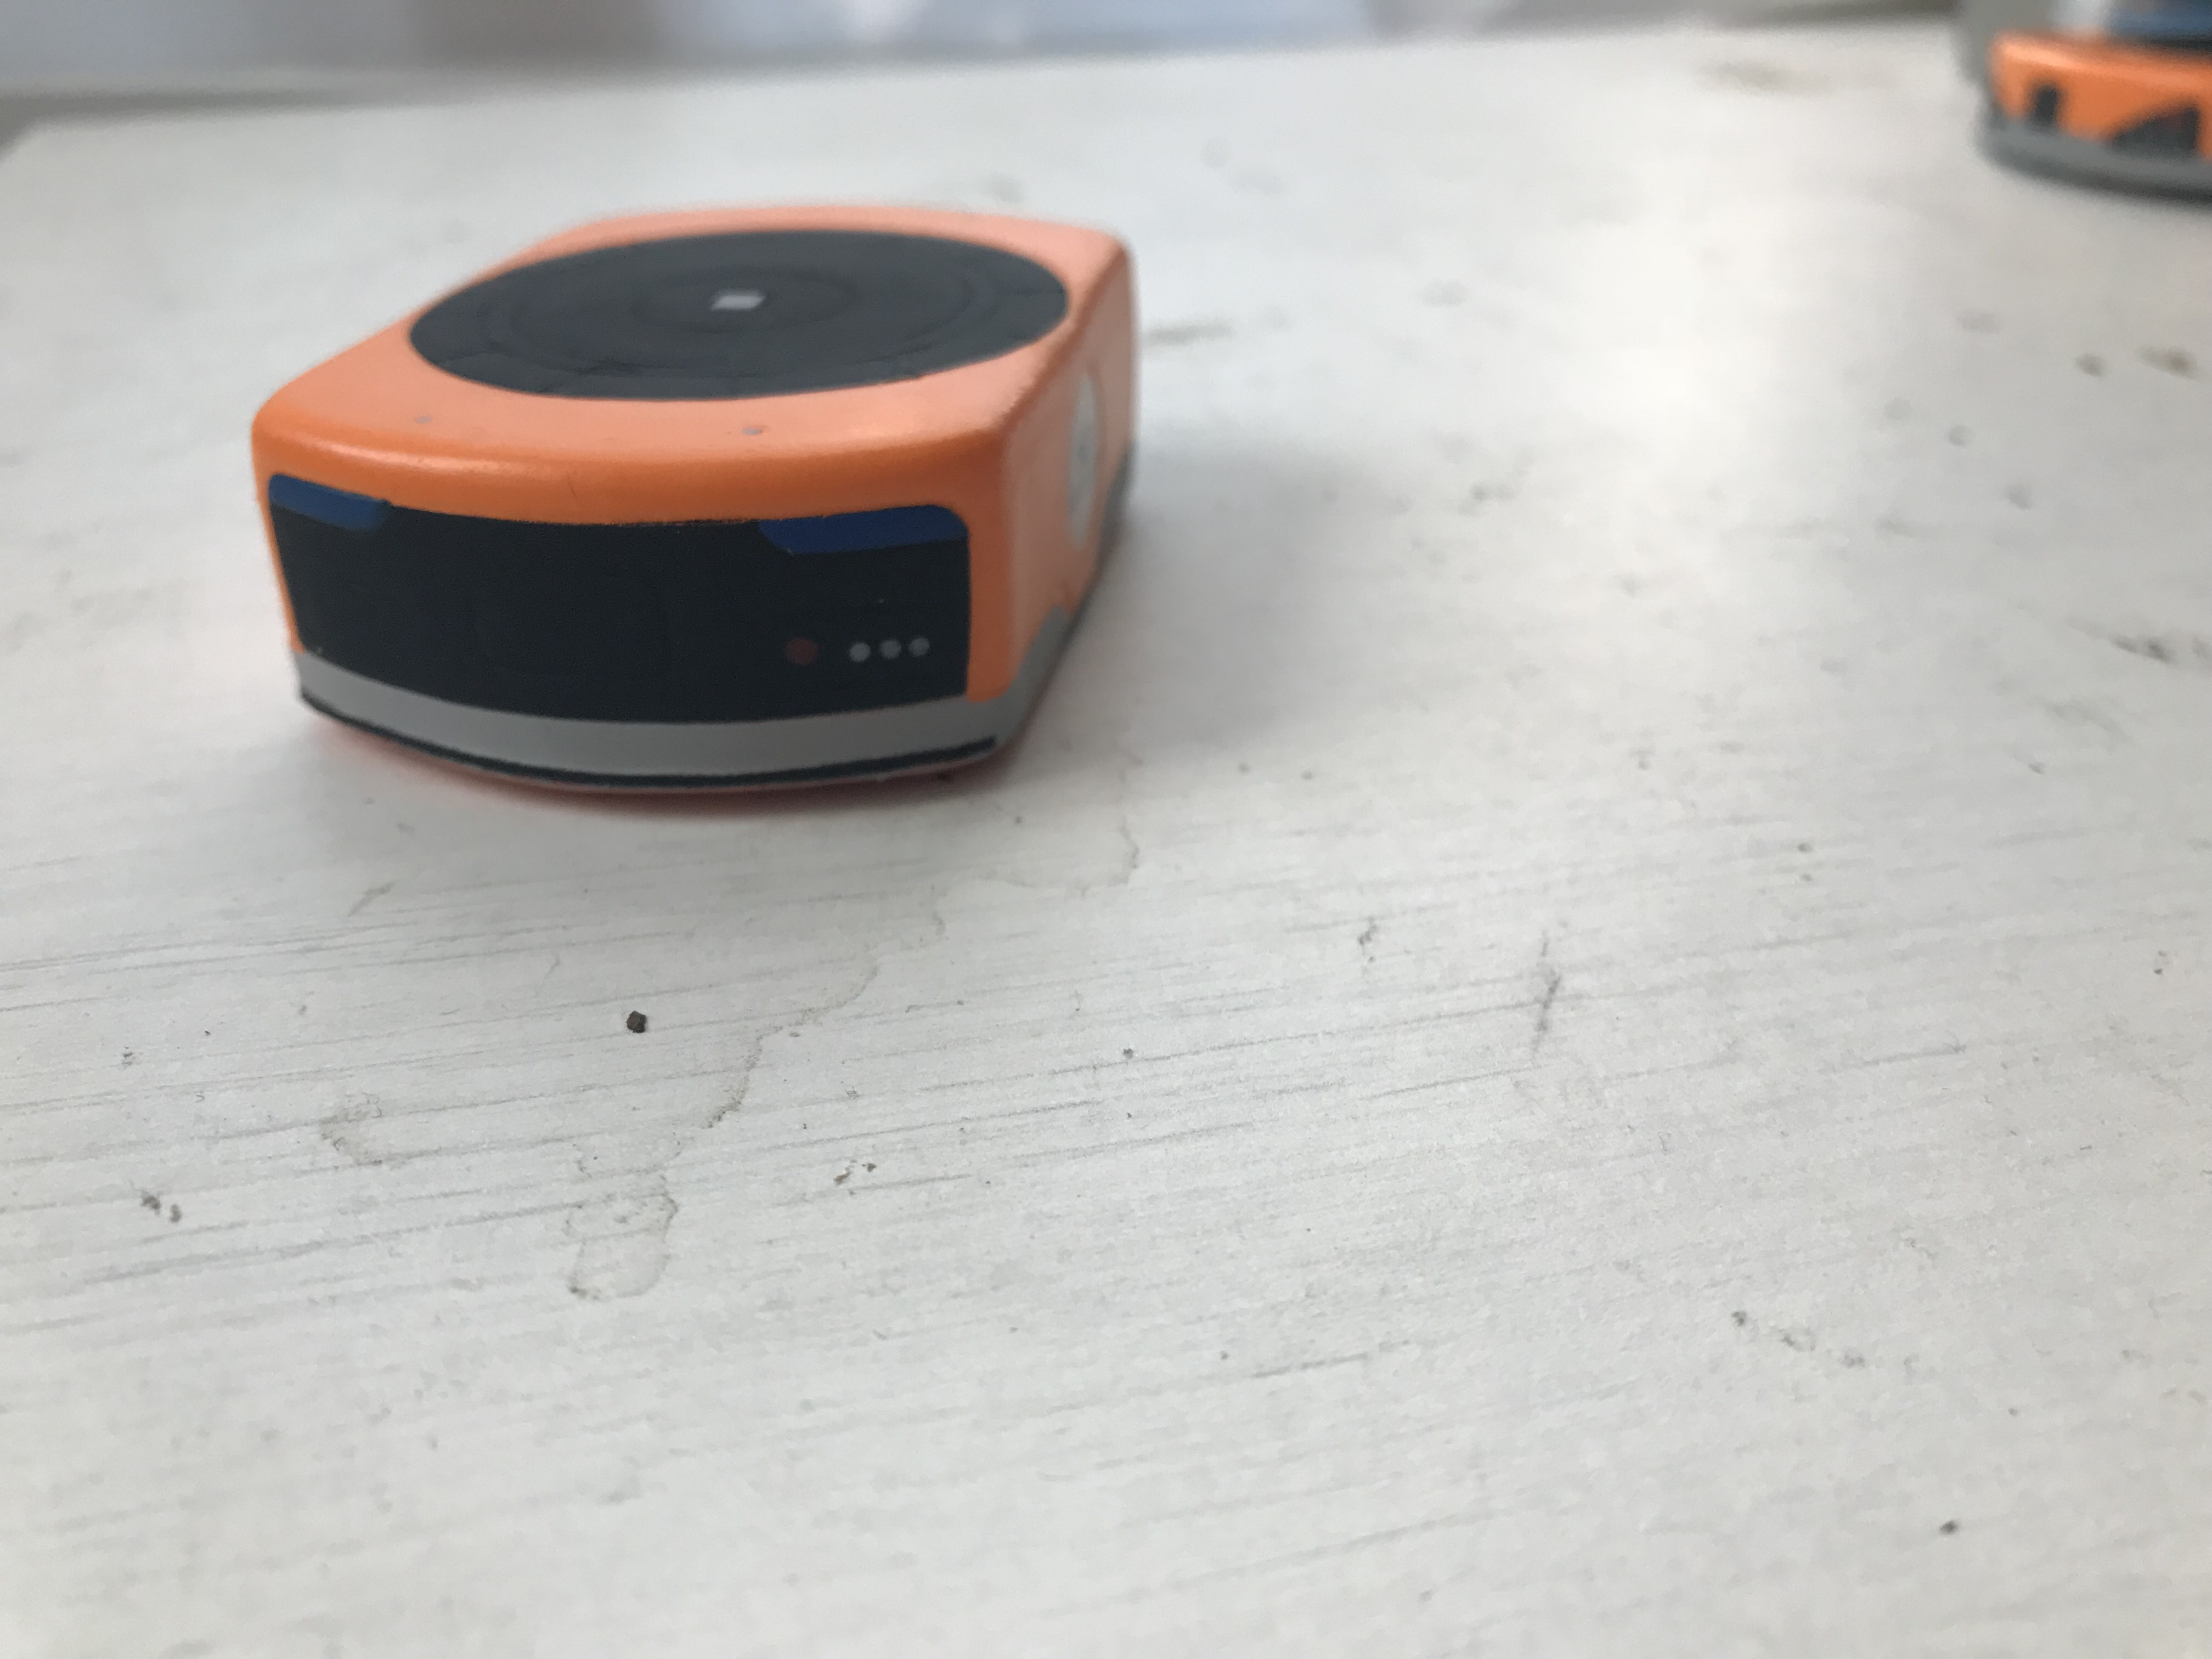amazon_bot: (228, 202, 1205, 807)
